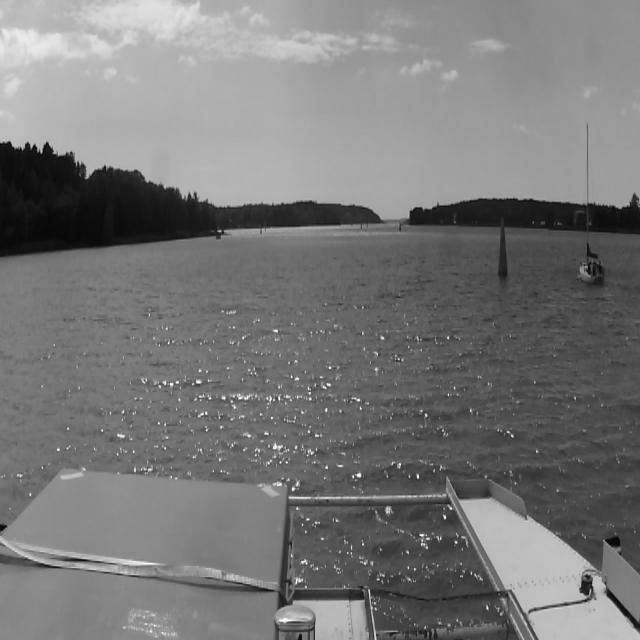buoy: (492, 201, 512, 289), (398, 218, 402, 234), (359, 220, 363, 231), (260, 224, 262, 236), (366, 219, 368, 230), (394, 220, 396, 230), (265, 224, 267, 233)
ship: (575, 113, 607, 294)
